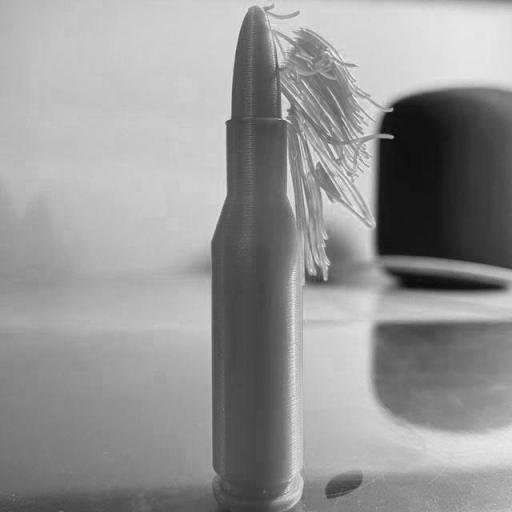spaghetti_and_stringing: (270, 8, 394, 281)
